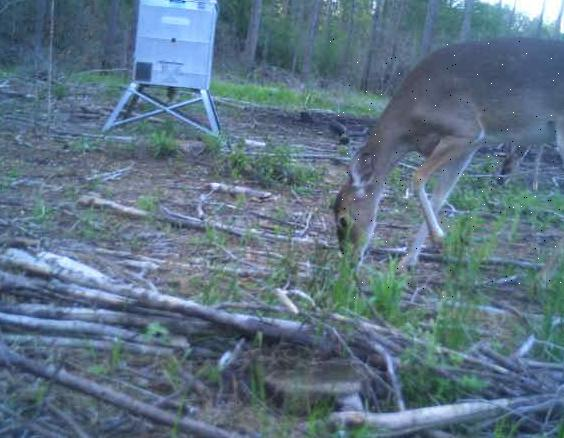Deer: (329, 37, 564, 298)
